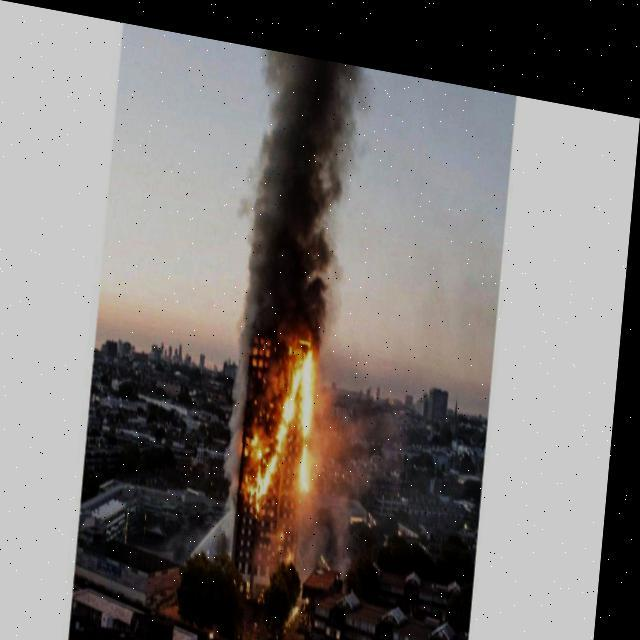Fire: (238, 288, 329, 558)
